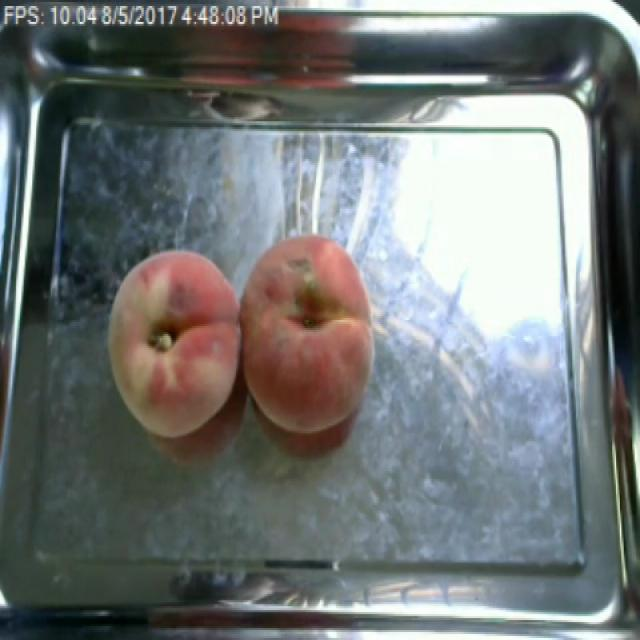Fruit: (236, 225, 388, 441), (102, 241, 246, 445)
